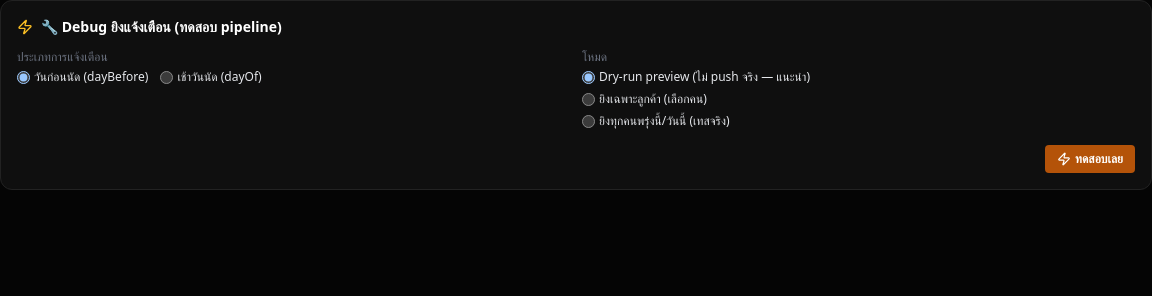
Test: V69.A — force flag (bypass idempotency for re-test) › AA.2 force checkbox appears in single mode
The width and height of the screenshot is (1152, 296).
Click the radio button labelled "ยิงเฉพาะลูกค้า (เลือกคน)".
click(588, 99)  # box [582,92,595,106]
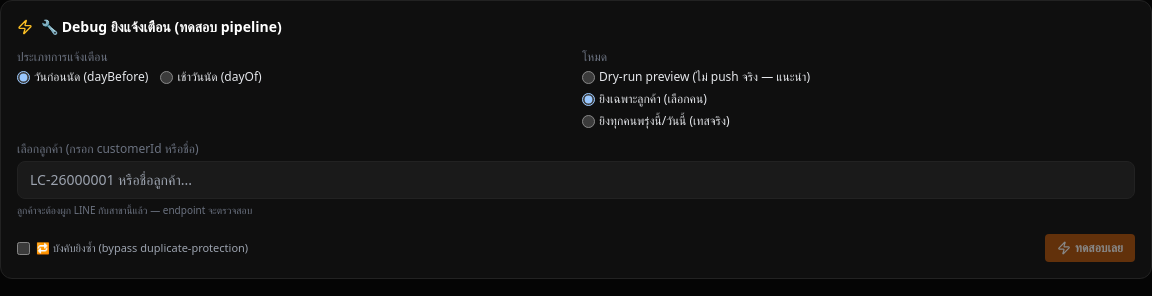
Expected: the checkbox labelled "🔁 บังคับยิงซ้ำ (bypass duplicate-protection)" is not checked, [17,242,30,254]
